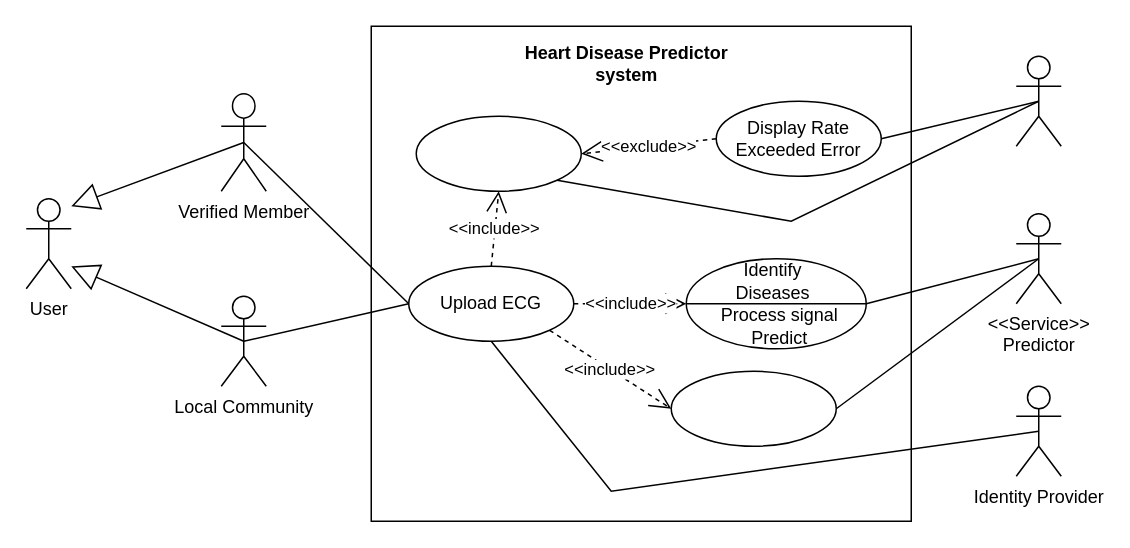
The diagram is 1130 pixels wide and 548 high, and some of its shapes have lost their labels. The centre of each missing label's shape, as x and y in pixels:
<<Service>> Rate Limiter: the point at 1038,100
Add ECG to database: the point at 753,408
Count No. of Uploads: the point at 498,153
